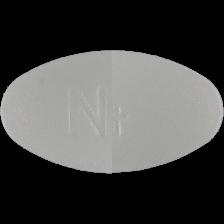50090-1600: (0, 0, 224, 224)
